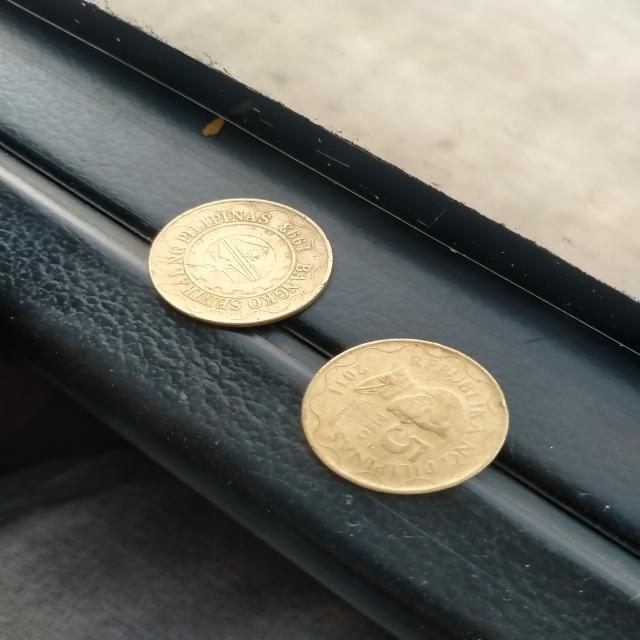5_Old_Back: (150, 198, 337, 323)
5_Old_Front: (360, 408, 430, 472)
